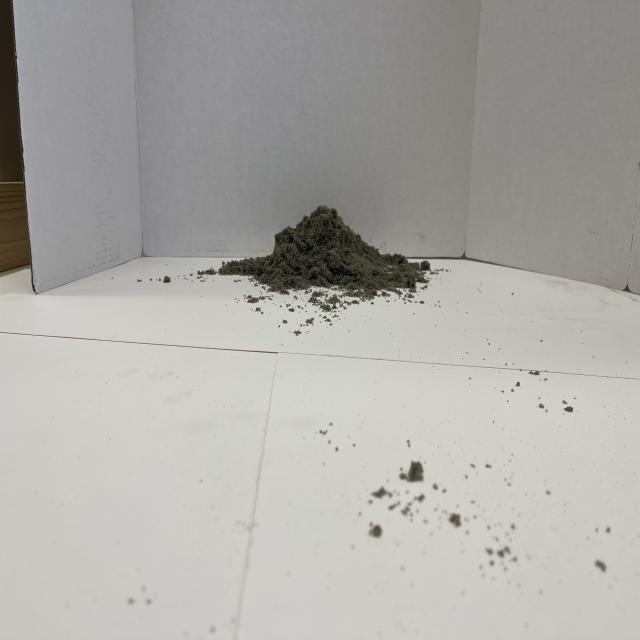sand: (245, 193, 411, 300)
